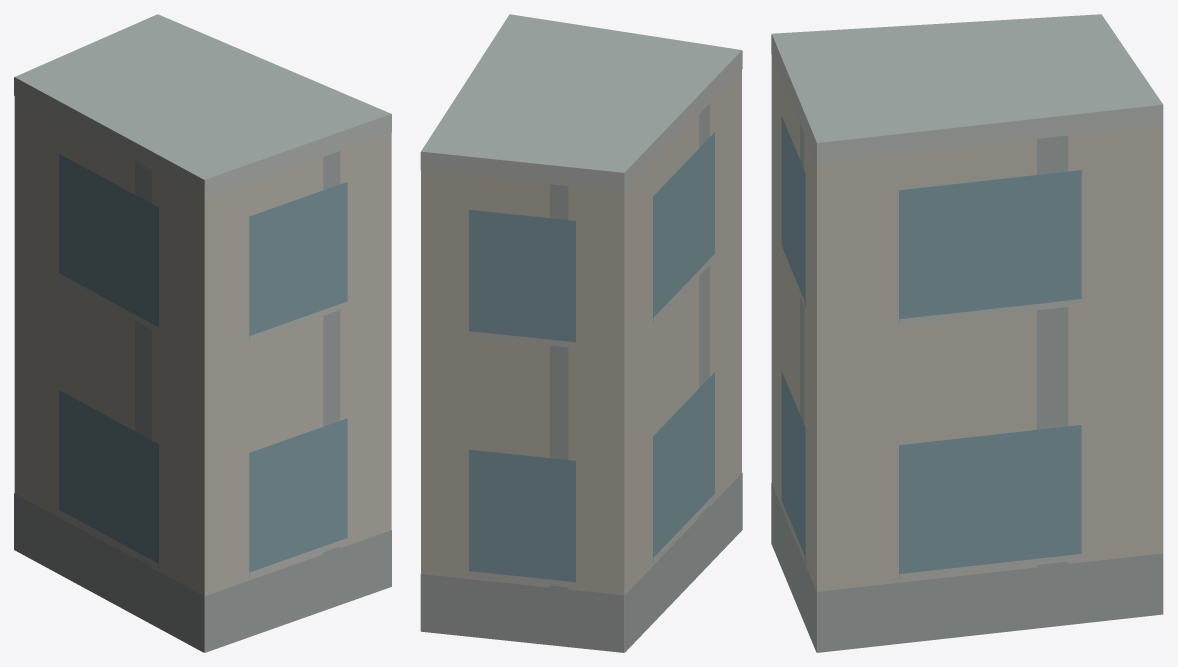
The model's file is survey-upis-32512564.glb.
The picture shows the model from 3 angles, left to right: view 1: azimuth 30°, elevation 25°; view 2: azimuth 150°, elevation 25°; view 3: azimuth 270°, elevation 25°; orthographic projection. The views are drawn at different scales.
Visible parts, largest first — view 1: survey-upis-32512564.tmp; view 2: survey-upis-32512564.tmp; view 3: survey-upis-32512564.tmp.
Part boxes in pixels (x1,y1,x2,y2): survey-upis-32512564.tmp: (14, 14, 391, 652); survey-upis-32512564.tmp: (420, 14, 742, 652); survey-upis-32512564.tmp: (771, 14, 1163, 652).
Size of the model in its own units: 3.32 by 6.1 by 4.26.
